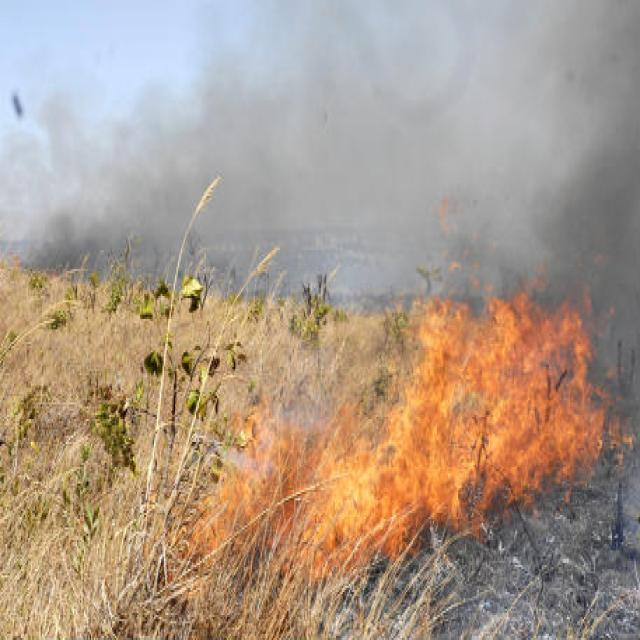Fire: (154, 240, 623, 576)
Smoke: (9, 13, 640, 288)
